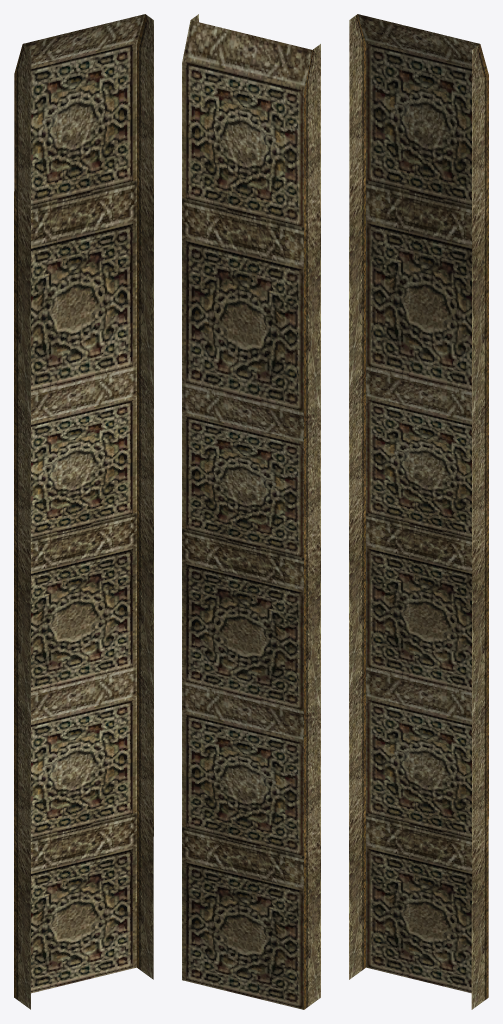
File: hrt_pillar1.glb
3 views of the same model, side by side, from view 1: azimuth 30°, elevation 25°; view 2: azimuth 150°, elevation 25°; view 3: azimuth 330°, elevation 25° (orthographic).
Parts seen in each view (by area): view 1: hrt_pillar1; view 2: hrt_pillar1; view 3: hrt_pillar1.
Part boxes in pixels (box(x1,y1,x2,y2)): hrt_pillar1: box(14, 14, 153, 1009); hrt_pillar1: box(182, 14, 320, 1009); hrt_pillar1: box(349, 14, 488, 1009).
Bounding box in the file's own units: 1 × 7.47 × 0.2399.
1 material, 1 textured.
